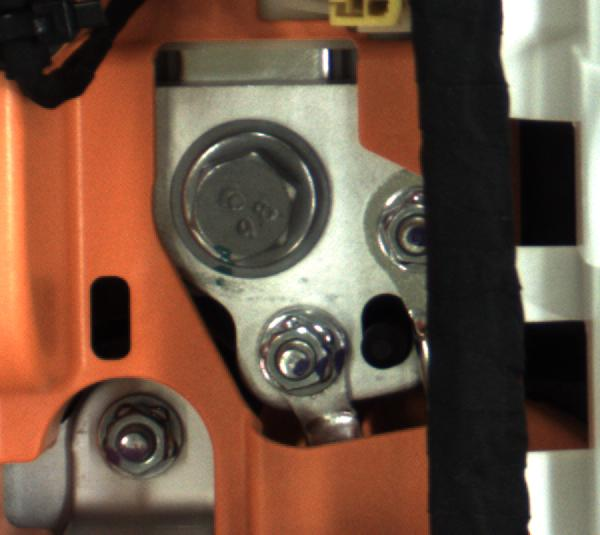nut_b: (156, 114, 326, 275)
screw_s: (258, 308, 354, 397), (94, 398, 179, 479), (372, 182, 436, 269)
